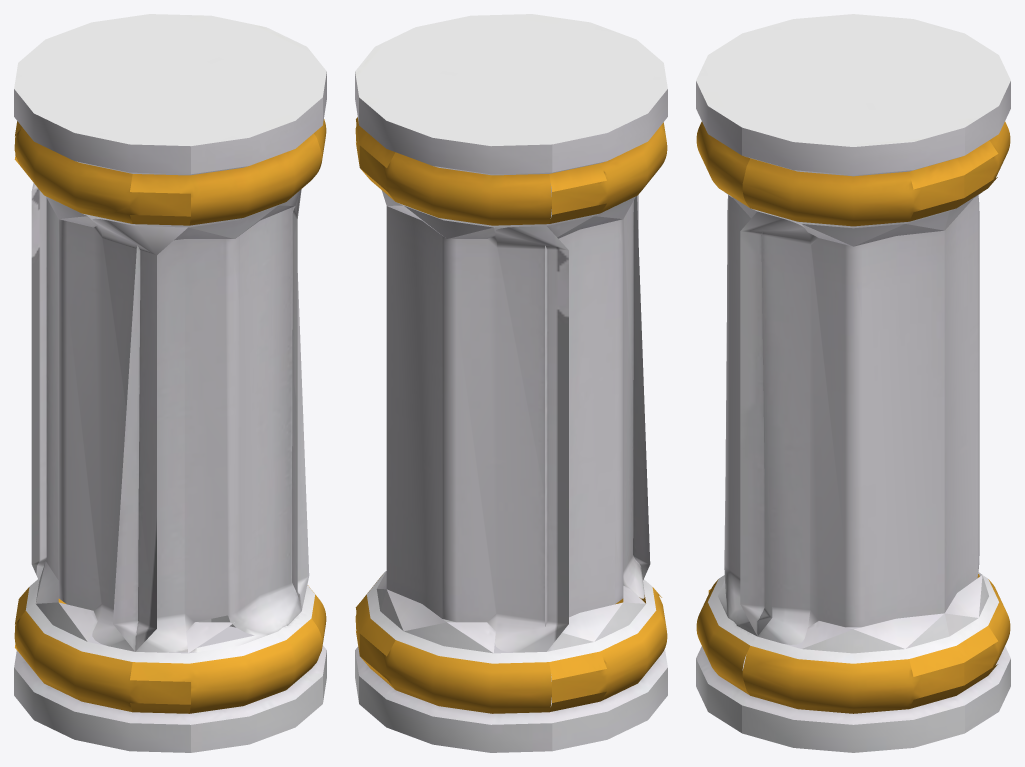
Rendered from pl_sutun.glb.
3 views of the same model, side by side, from view 1: azimuth 30°, elevation 25°; view 2: azimuth 150°, elevation 25°; view 3: azimuth 270°, elevation 25° (orthographic).
Visible parts, largest first — view 1: pl_sutun; view 2: pl_sutun; view 3: pl_sutun.
Boxes of the visible parts, x1=… form: pl_sutun: x1=14, y1=14, x2=326, y2=752; pl_sutun: x1=355, y1=14, x2=667, y2=752; pl_sutun: x1=696, y1=14, x2=1010, y2=752.
Size of the model in its own units: 1.46 by 3.09 by 1.46.
Materials: 1 (1 with a texture image).
